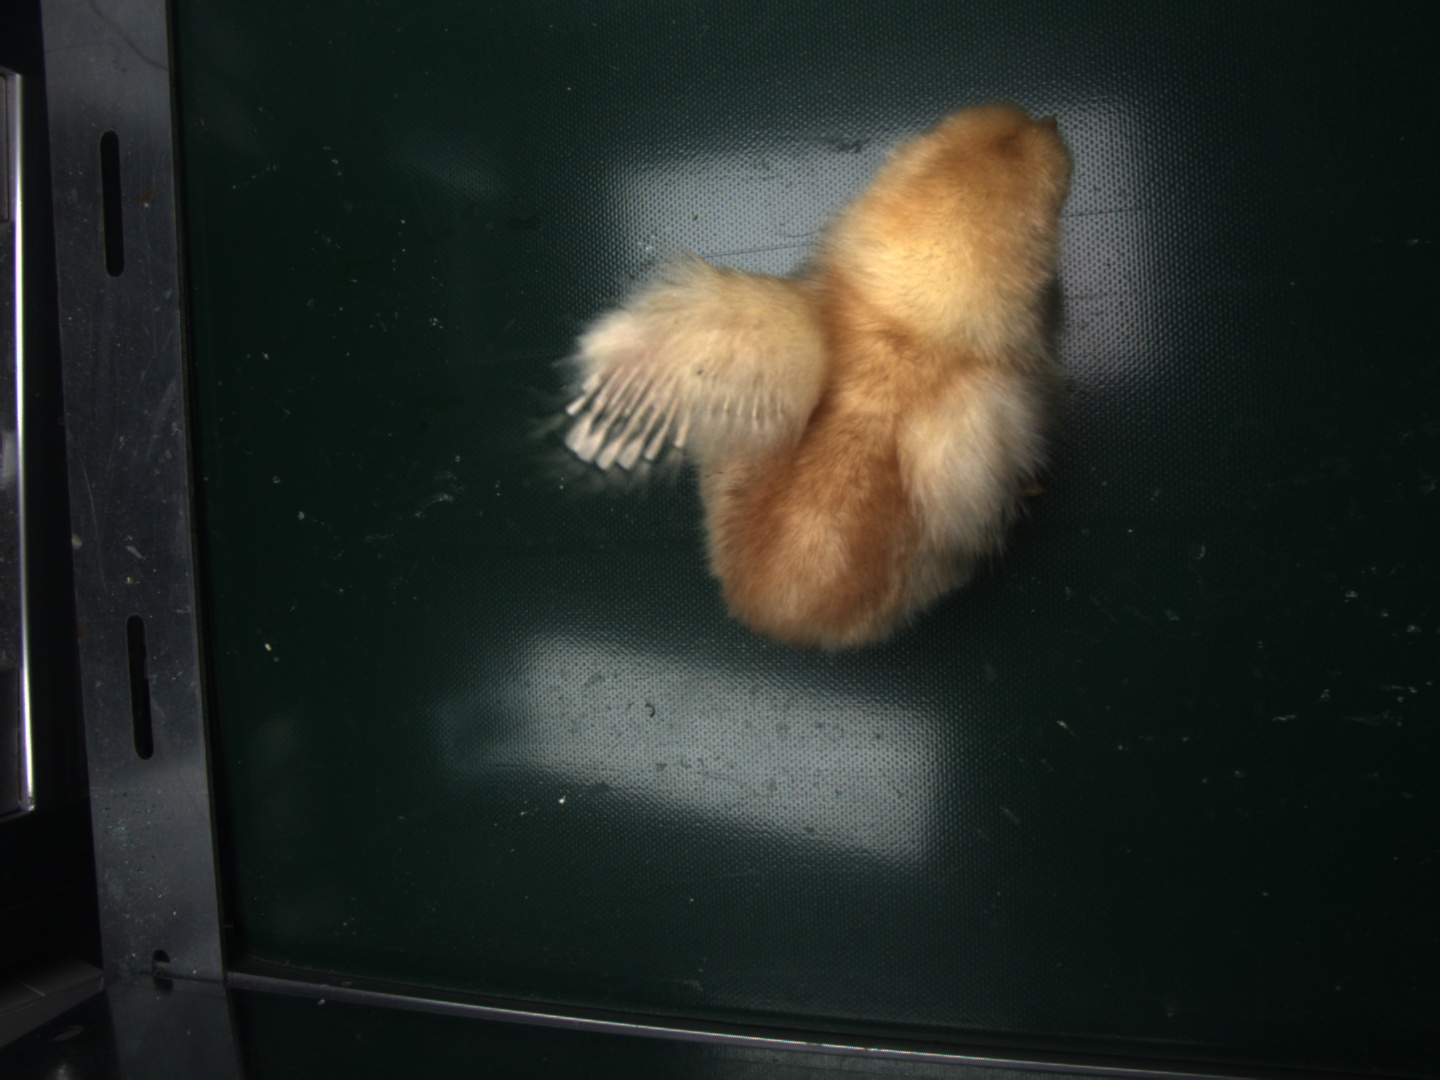female: (557, 368, 691, 471)
